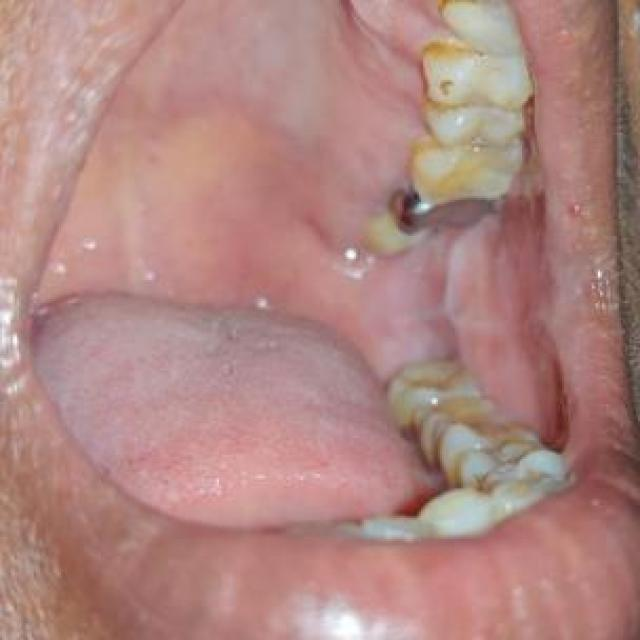processing_area: (21, 0, 577, 539)
